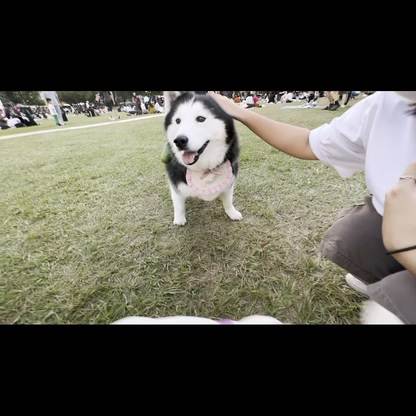husky: (156, 91, 249, 228)
